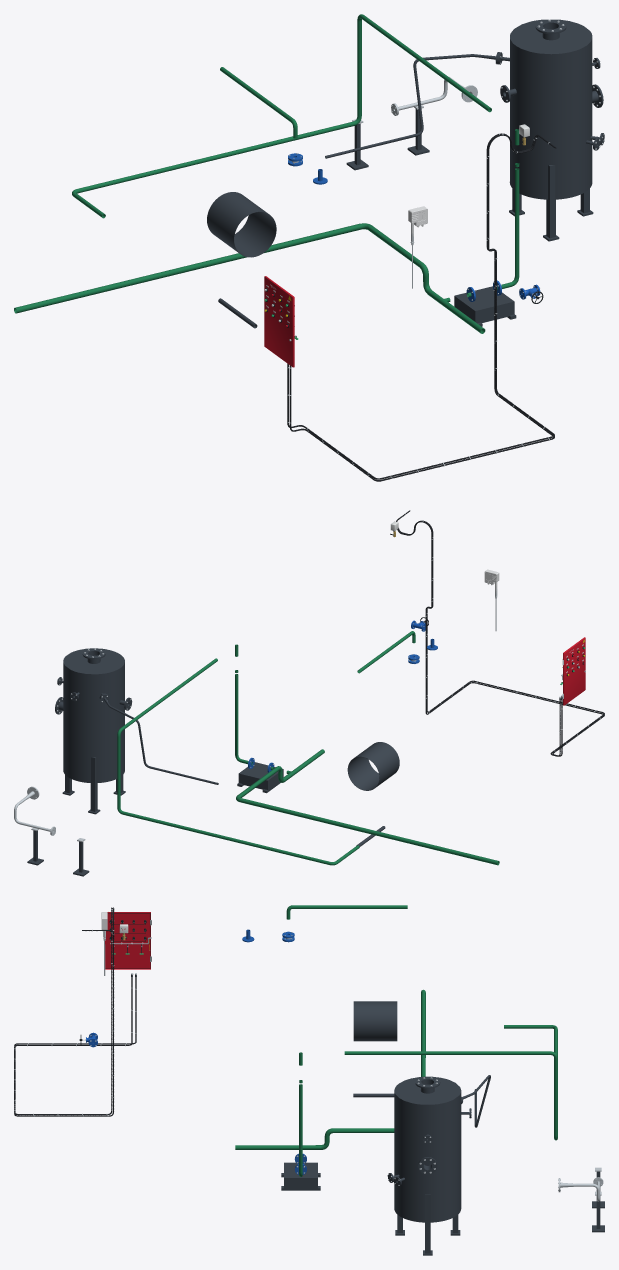
Rendered from s4000-3-DMMWkQBy.glb.
3 renders of one model, top to bottom at view 1: azimuth 30°, elevation 25°; view 2: azimuth 150°, elevation 25°; view 3: azimuth 270°, elevation 25°, orthographic. The views are drawn at different scales.
Parts seen in each view (by area): view 1: separator_bdv60_5 / dark, suction_common / green, flue_spacer / dark, to_economizer / green, cabinet_door / cabinet_door_5.npz, wiring_pressure_switch_1 / black, wiring_pressure_switch_2 / black, pump_branch_2 / dark, tds_without_fv / dark, pump_branch_2 / green, trap_support / dark; view 2: separator_bdv60_5 / dark, suction_common / green, to_economizer / green, flue_spacer / dark, cabinet_door / cabinet_door_5.npz, wiring_pressure_switch_1 / black, wiring_pressure_switch_2 / black, pump_branch_2 / dark, tds_without_fv / dark; view 3: separator_bdv60_5 / dark, cabinet_door / cabinet_door_5.npz, flue_spacer / dark, to_economizer / green, suction_common / green, wiring_pressure_switch_2 / black, pump_branch_2 / dark, wiring_pressure_switch_1 / black, direct_inlet / green.
Boxes of the visible parts, bbox=[...] form: separator_bdv60_5 / dark: bbox=[497, 19, 604, 241]; suction_common / green: bbox=[14, 223, 485, 333]; flue_spacer / dark: bbox=[207, 192, 276, 257]; to_economizer / green: bbox=[72, 14, 491, 218]; cabinet_door / cabinet_door_5.npz: bbox=[264, 276, 294, 367]; wiring_pressure_switch_1 / black: bbox=[289, 133, 556, 481]; wiring_pressure_switch_2 / black: bbox=[287, 134, 554, 479]; pump_branch_2 / dark: bbox=[454, 286, 516, 326]; tds_without_fv / dark: bbox=[325, 52, 499, 158]; pump_branch_2 / green: bbox=[444, 129, 519, 302]; trap_support / dark: bbox=[346, 109, 429, 170]; separator_bdv60_5 / dark: bbox=[55, 648, 132, 814]; suction_common / green: bbox=[236, 749, 499, 865]; to_economizer / green: bbox=[117, 658, 359, 865]; flue_spacer / dark: bbox=[347, 742, 399, 790]; cabinet_door / cabinet_door_5.npz: bbox=[562, 637, 585, 705]; wiring_pressure_switch_1 / black: bbox=[396, 510, 604, 756]; wiring_pressure_switch_2 / black: bbox=[397, 517, 604, 756]; pump_branch_2 / dark: bbox=[237, 762, 283, 793]; tds_without_fv / dark: bbox=[100, 694, 218, 784]; separator_bdv60_5 / dark: bbox=[387, 1076, 471, 1255]; cabinet_door / cabinet_door_5.npz: bbox=[105, 912, 151, 969]; flue_spacer / dark: bbox=[353, 1001, 397, 1041]; to_economizer / green: bbox=[344, 1025, 557, 1140]; suction_common / green: bbox=[235, 989, 425, 1149]; wiring_pressure_switch_2 / black: bbox=[14, 907, 136, 1115]; pump_branch_2 / dark: bbox=[281, 1162, 320, 1190]; wiring_pressure_switch_1 / black: bbox=[14, 907, 132, 1116]; direct_inlet / green: bbox=[286, 905, 407, 919].
Size of the model in its own units: 6.26 by 2.96 by 6.75.
